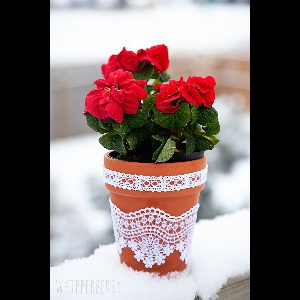flowerpot: (96, 143, 213, 276)
